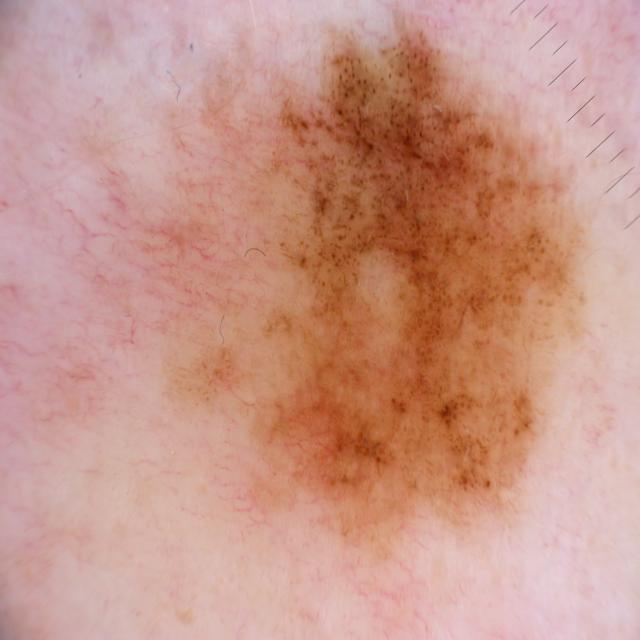Melanoma: (207, 38, 580, 535)
